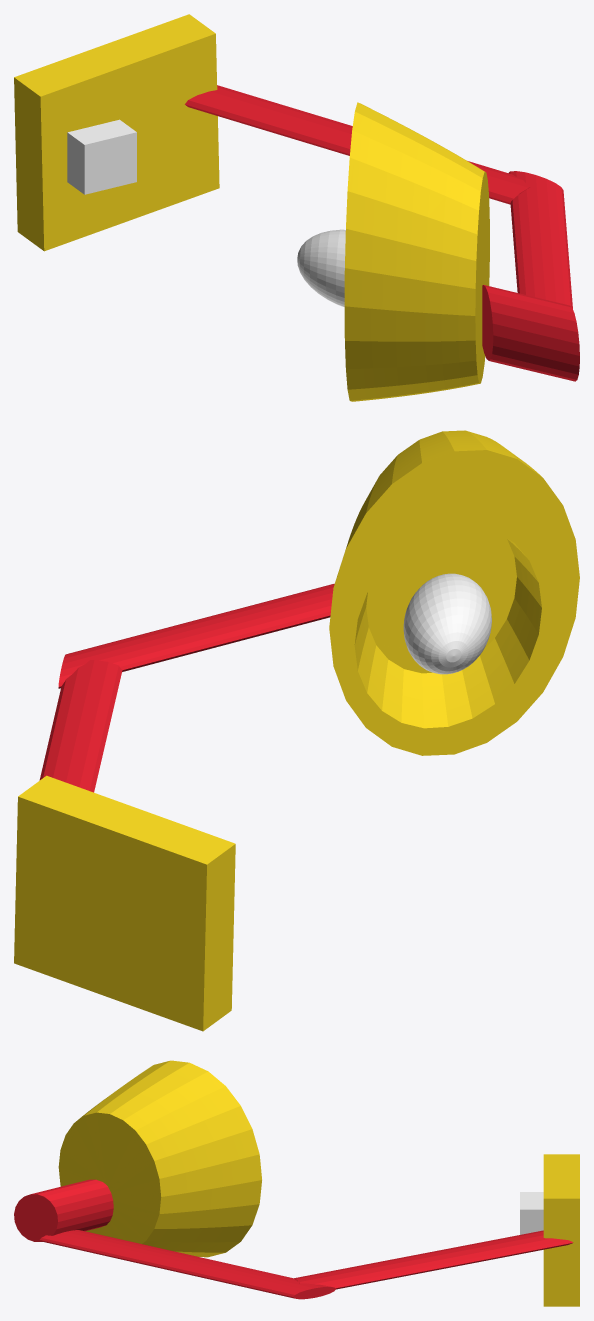
The model's file is tinker.obj.
The picture shows the model from 3 angles, top to bottom: view 1: azimuth 30°, elevation 25°; view 2: azimuth 150°, elevation 25°; view 3: azimuth 270°, elevation 25°; orthographic projection. The views are drawn at different scales.
Visible parts, largest first — view 1: group_0_16768282, group_0_15277357, group_0_16448250; view 2: group_0_16768282, group_0_15277357, group_0_16448250; view 3: group_0_16768282, group_0_15277357, group_0_16448250.
Boxes of the visible parts, bbox=[...] form: group_0_16768282: bbox=[14, 14, 489, 401]; group_0_15277357: bbox=[185, 85, 579, 381]; group_0_16448250: bbox=[67, 119, 345, 306]; group_0_16768282: bbox=[14, 430, 579, 1031]; group_0_15277357: bbox=[39, 583, 334, 792]; group_0_16448250: bbox=[403, 573, 491, 674]; group_0_16768282: bbox=[58, 1060, 579, 1306]; group_0_15277357: bbox=[14, 1179, 572, 1299]; group_0_16448250: bbox=[520, 1192, 543, 1234].
Bounding box in the file's own units: 21.85 × 19 × 45.
